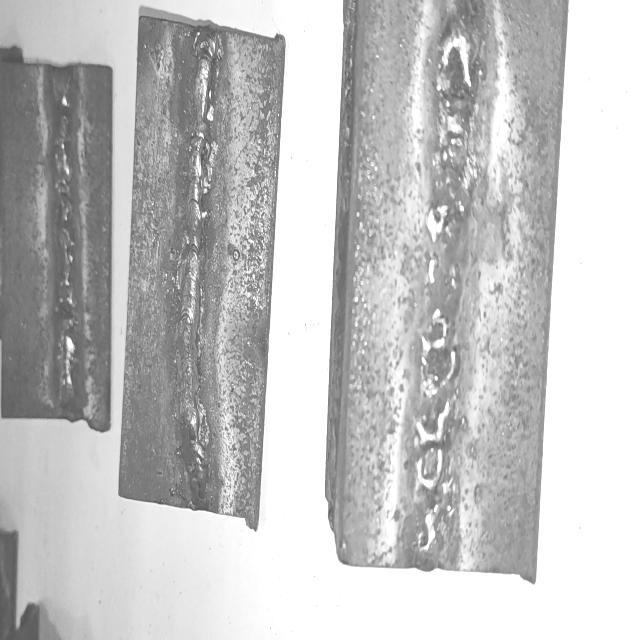Defect: (412, 14, 484, 552), (418, 28, 476, 564), (47, 79, 79, 403)
Welding Line: (176, 39, 224, 500), (51, 74, 78, 411)
Workpiece: (331, 0, 564, 586), (124, 6, 288, 532), (0, 61, 115, 433)
